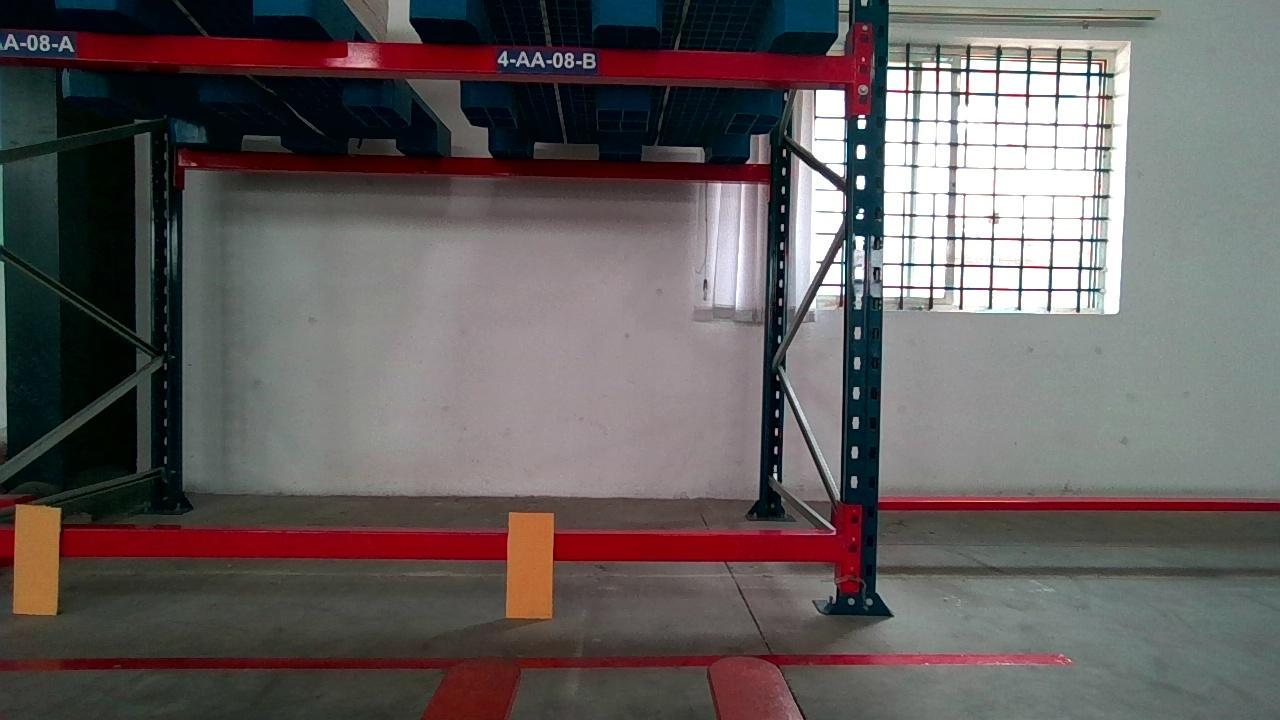h_rack: (2, 27, 860, 83), (0, 523, 838, 561)
orange_strip: (500, 511, 562, 624), (7, 498, 61, 612)
red_line: (0, 651, 1069, 670)
